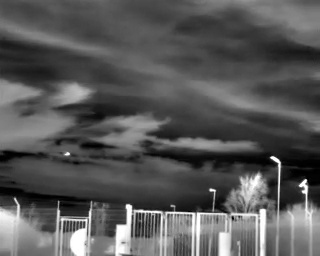HELICOPTER: (62, 149, 73, 159)
